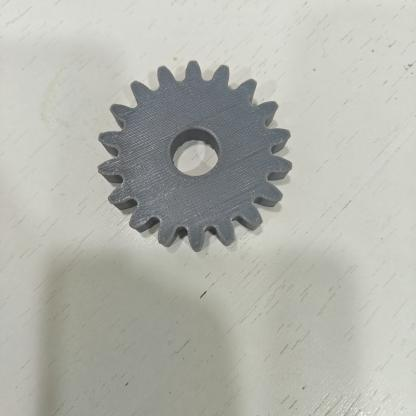gear: (86, 50, 303, 257)
